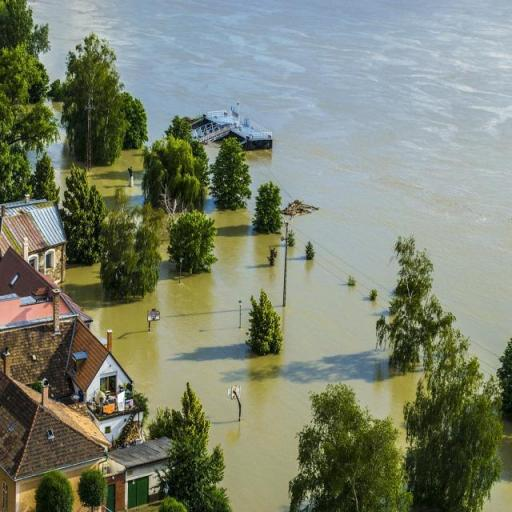flood: (27, 0, 512, 512), (67, 263, 161, 345), (88, 149, 144, 209), (485, 416, 512, 512), (49, 131, 74, 210)
house: (0, 389, 98, 512), (4, 195, 66, 288), (100, 441, 170, 512), (66, 319, 116, 398)
